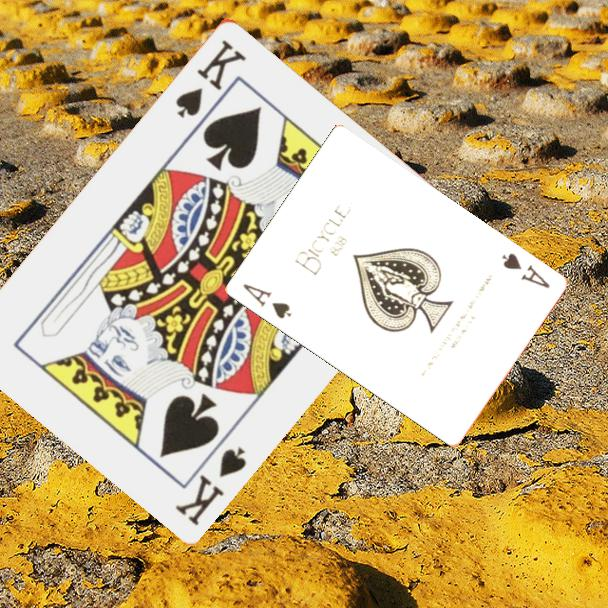s01: (498, 249, 552, 292), (239, 280, 294, 322)
s13: (171, 442, 250, 528), (172, 35, 250, 121)
